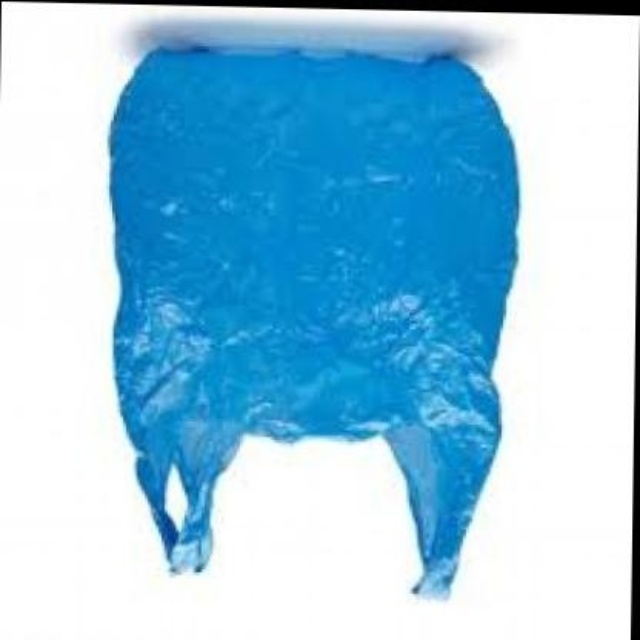trash: (111, 51, 517, 597)
